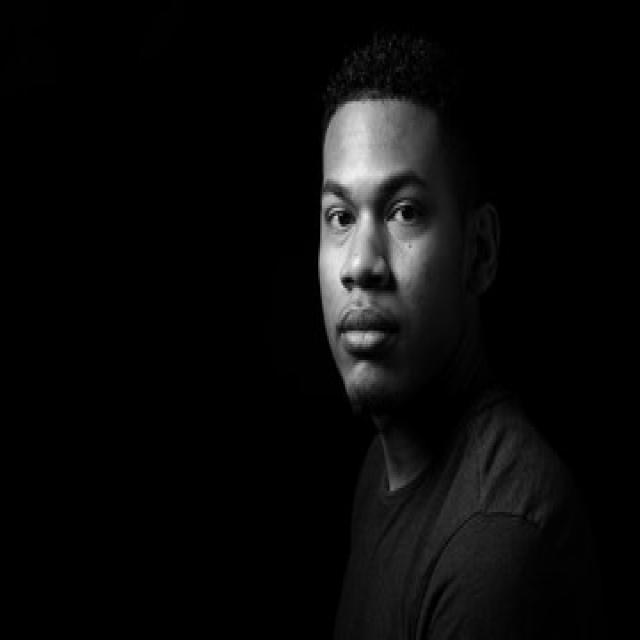person-without-mask: (217, 53, 611, 640)
